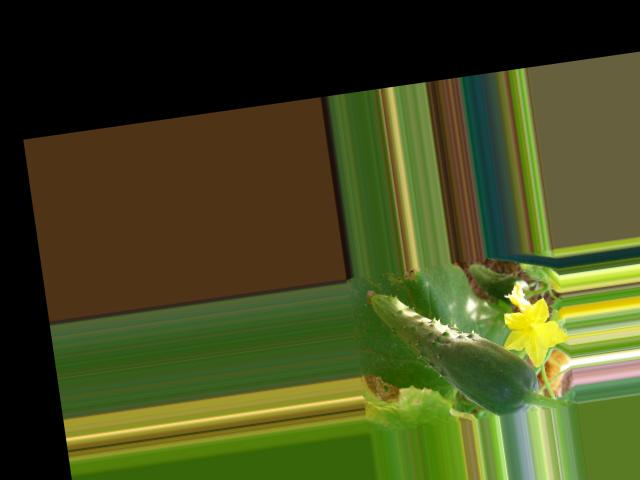cucumber: (365, 268, 542, 432)
